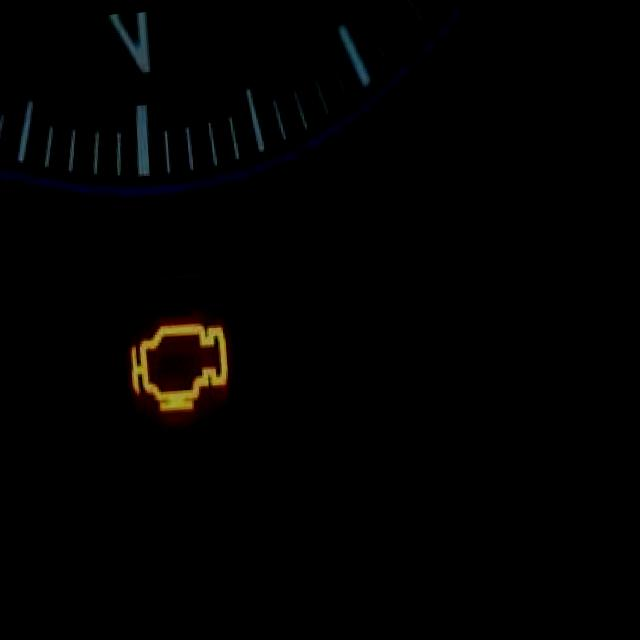kontrolka: (106, 282, 268, 446)
